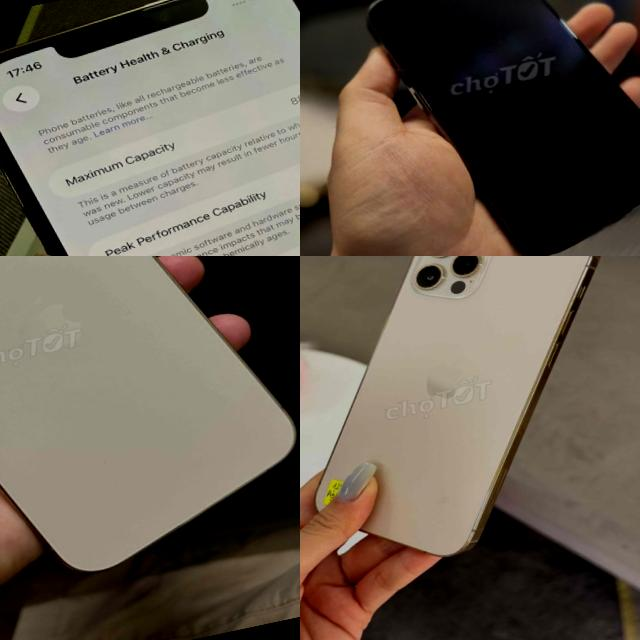gen_12_13: (300, 256, 640, 593), (0, 256, 300, 617), (0, 0, 300, 256)
gen_15: (335, 0, 640, 256)
